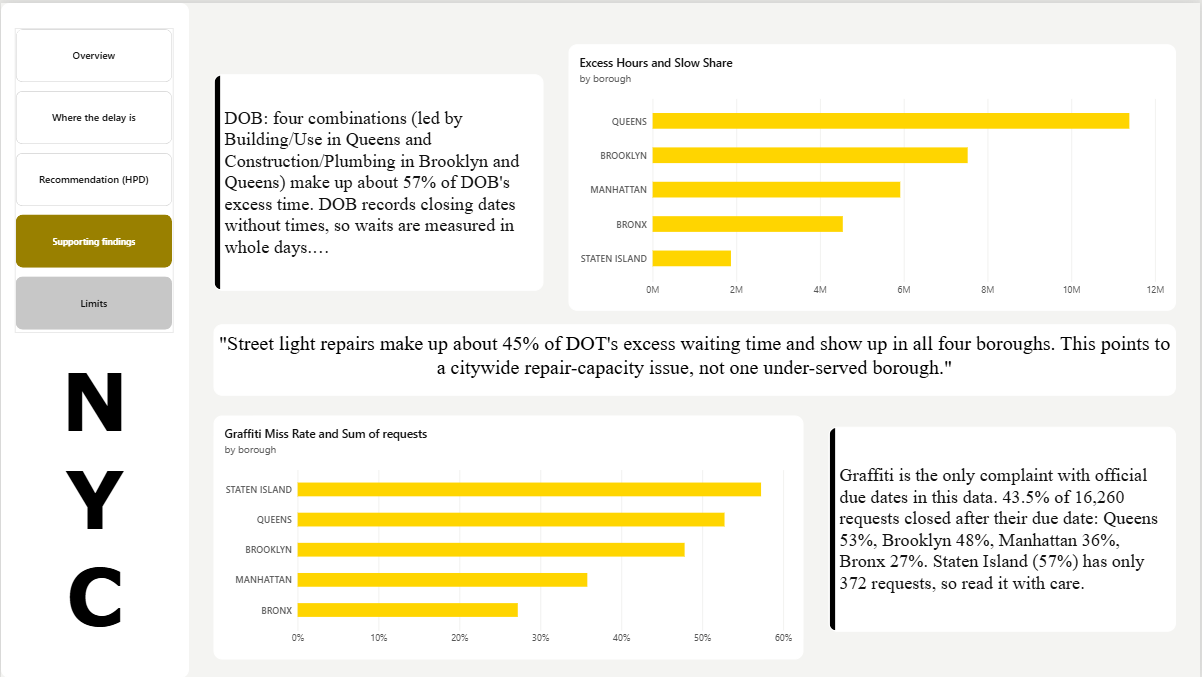

What the dashboard file says about the page in this screenshot:
{"tool":"powerbi","page":{"name":"Supporting findings","canvas":[1920,1080],"ordinal":3},"visuals":[{"type":"shape","box":[0,0,300.4,1080.4],"z":0},{"type":"clusteredBarChart","fields":{"Category":["Borough.borough"],"Y":["_Measures.Excess Hours"]},"box":[908,66,972,426],"z":1000},{"type":"clusteredBarChart","fields":{"Category":["sum_graffiti_due.borough"],"Y":["_Measures.Graffiti Miss Rate"]},"box":[340,660,944,390],"z":2000},{"type":"cardVisual","fields":{"Data":["_Measures.insight 42"]},"box":[1324,678,556,328],"z":3000},{"type":"cardVisual","fields":{"Data":["_Measures.insight43"]},"box":[340,114,528,346],"z":4000},{"type":"textbox","box":[340,514,1540,114],"z":5000},{"type":"textbox","box":[22,556,256,524],"z":5001},{"type":"pageNavigator","box":[22,40,254,488],"z":5002}]}

Visuals, with their boxes on the page's 1920x1080 design canvas (x1, y1, x2, y2). These are canvas units, not pixel positions in the 1202x677 screenshot, which may show the page scaled, cropped or inside an application window:
shape: [x1=0, y1=0, x2=300, y2=1080]
clusteredBarChart - Borough.borough x _Measures.Excess Hours: [x1=908, y1=66, x2=1880, y2=492]
clusteredBarChart - sum_graffiti_due.borough x _Measures.Graffiti Miss Rate: [x1=340, y1=660, x2=1284, y2=1050]
cardVisual - _Measures.insight 42: [x1=1324, y1=678, x2=1880, y2=1006]
cardVisual - _Measures.insight43: [x1=340, y1=114, x2=868, y2=460]
textbox: [x1=340, y1=514, x2=1880, y2=628]
textbox: [x1=22, y1=556, x2=278, y2=1080]
pageNavigator: [x1=22, y1=40, x2=276, y2=528]
